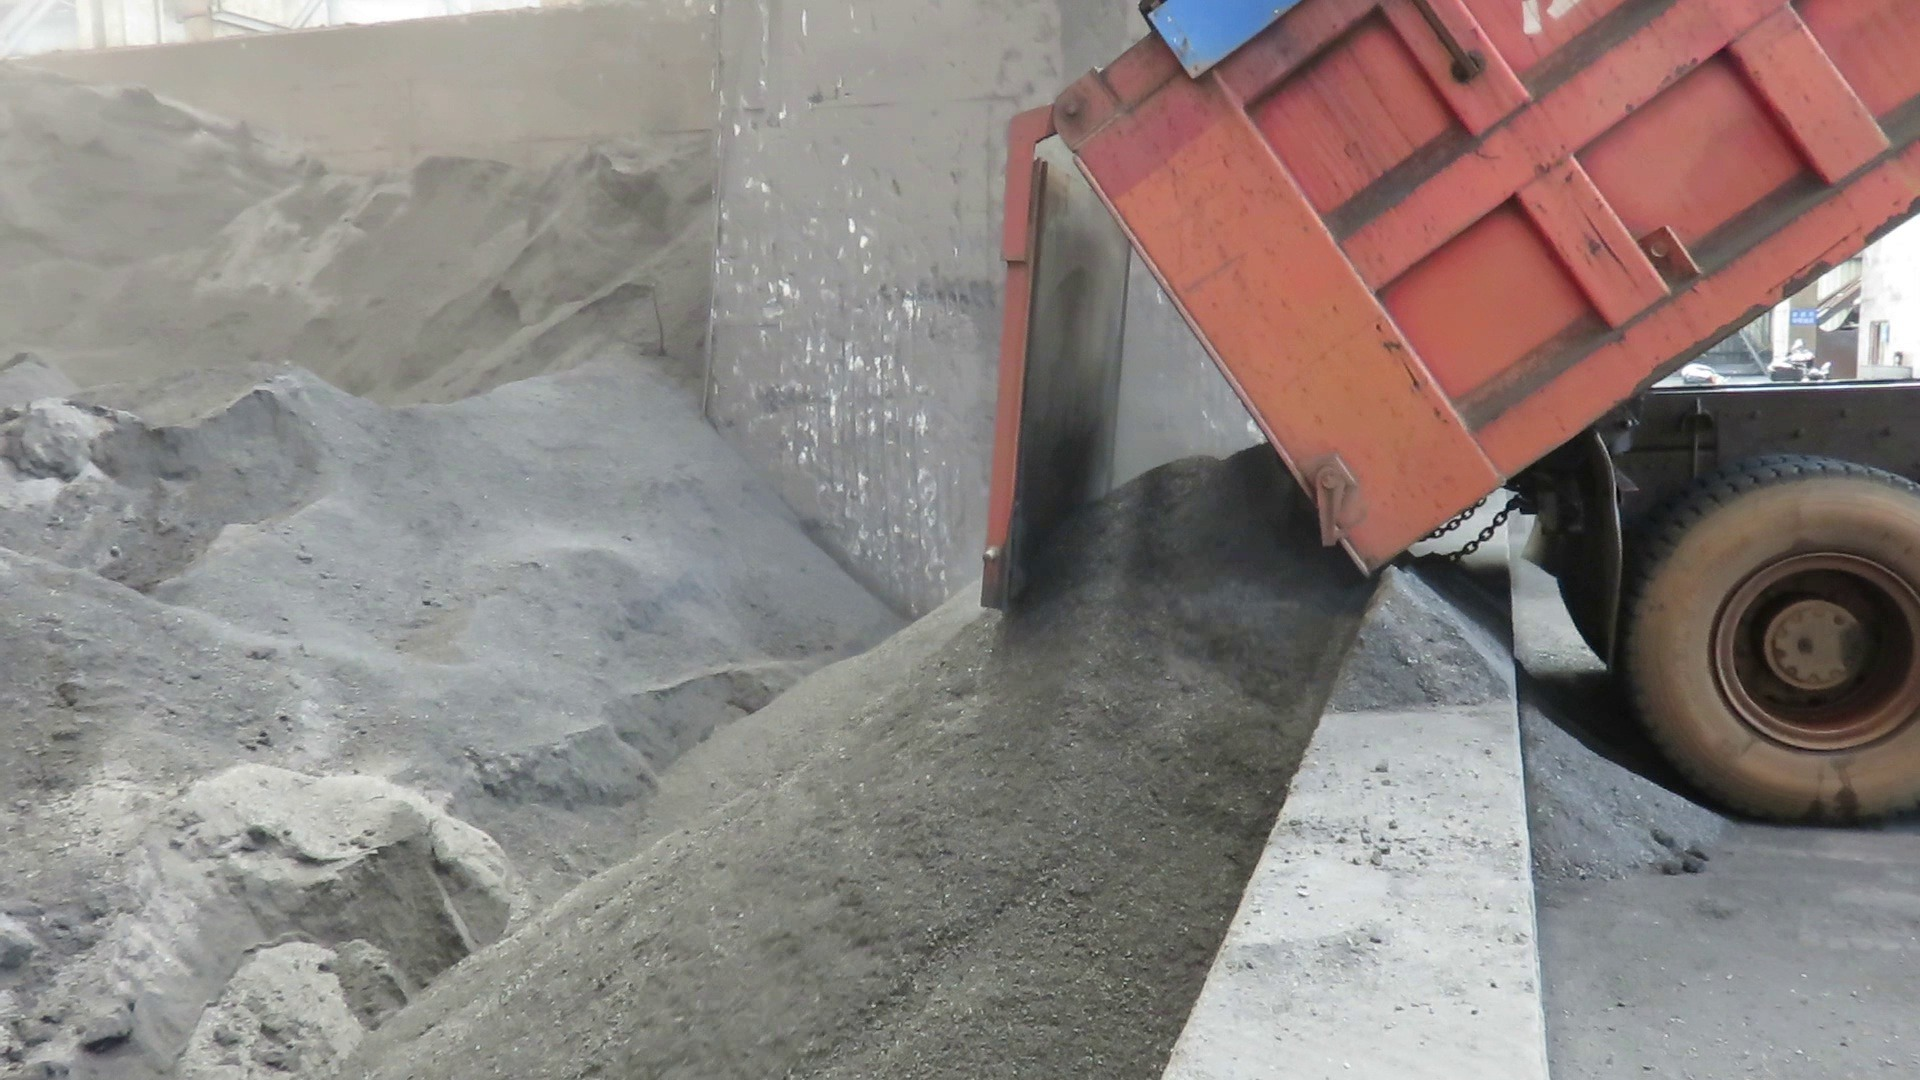truck: (960, 0, 1919, 839)
